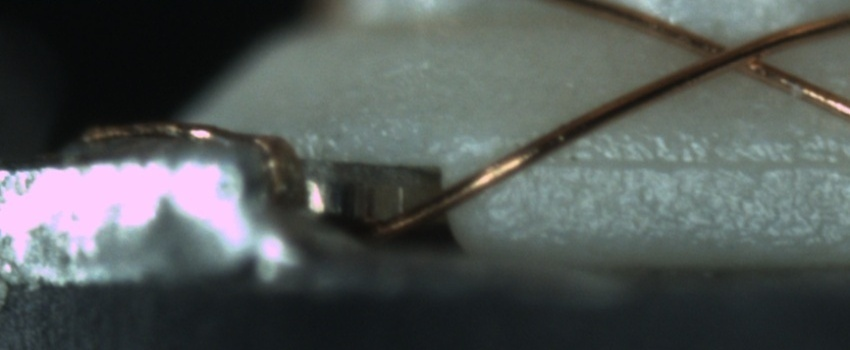CL: (687, 26, 788, 83)
DL: (533, 130, 849, 189)
TE: (76, 110, 303, 198)
